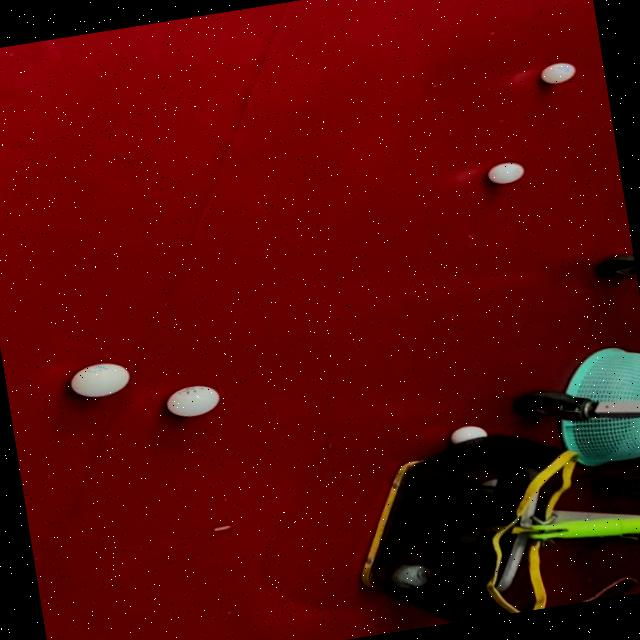ping-pong-ball: (64, 357, 136, 402), (160, 378, 228, 422), (480, 156, 532, 188), (445, 420, 493, 450), (534, 57, 580, 88)
